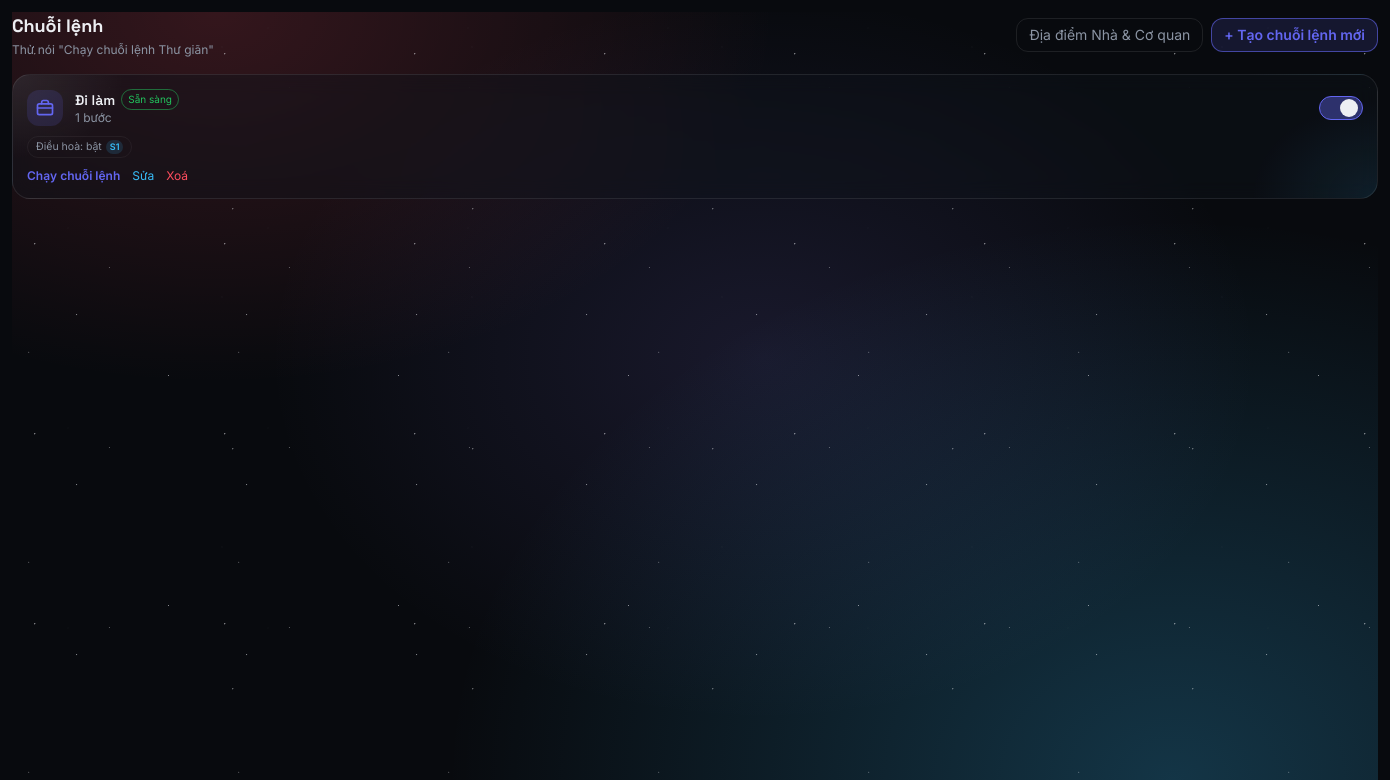
Test: RoutinesView — danh sách › Xoá — bấm Thôi thì huỷ xác nhận, không gọi deleteRoutine
Click the button "Xoá".
click(177, 176)  # box 166,168 -> 188,184
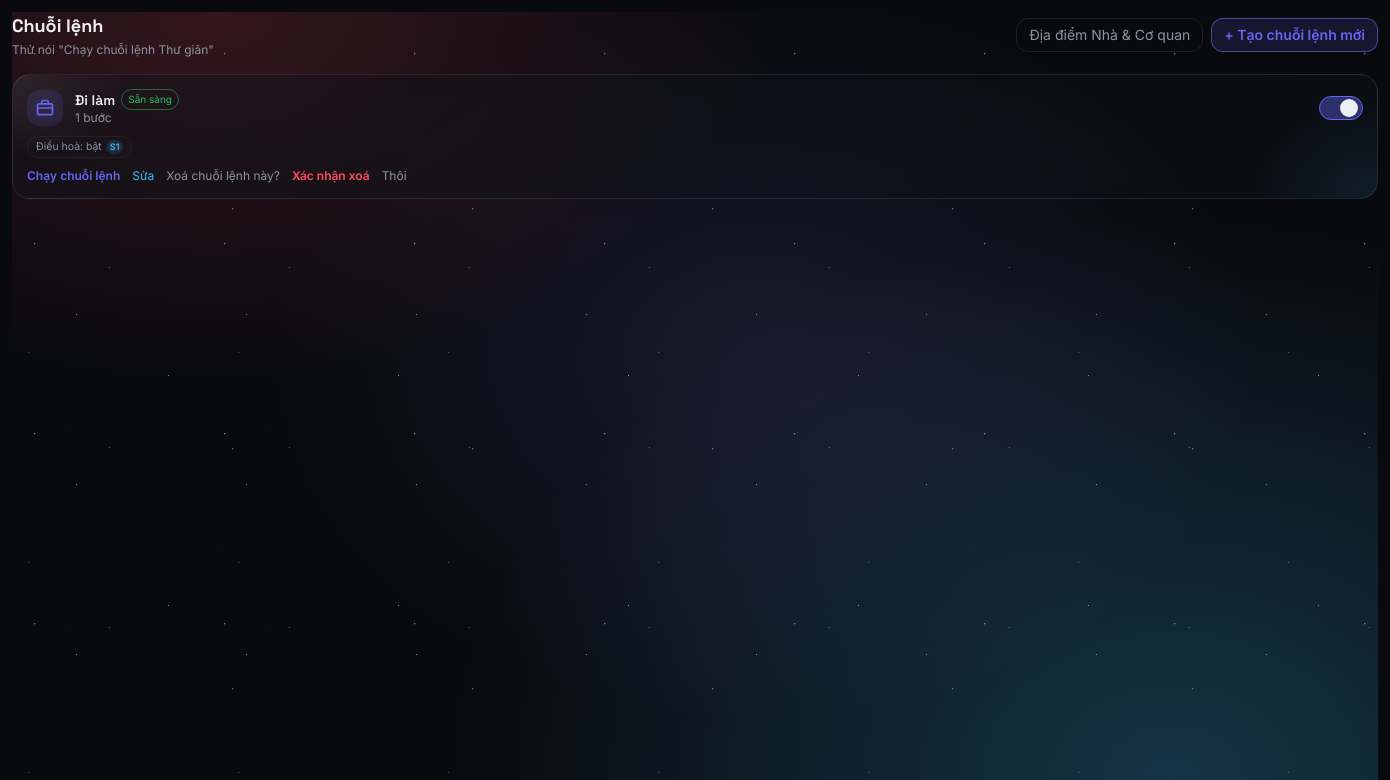
Click the button "Thôi".
click(394, 176)  # box 382,168 -> 407,184
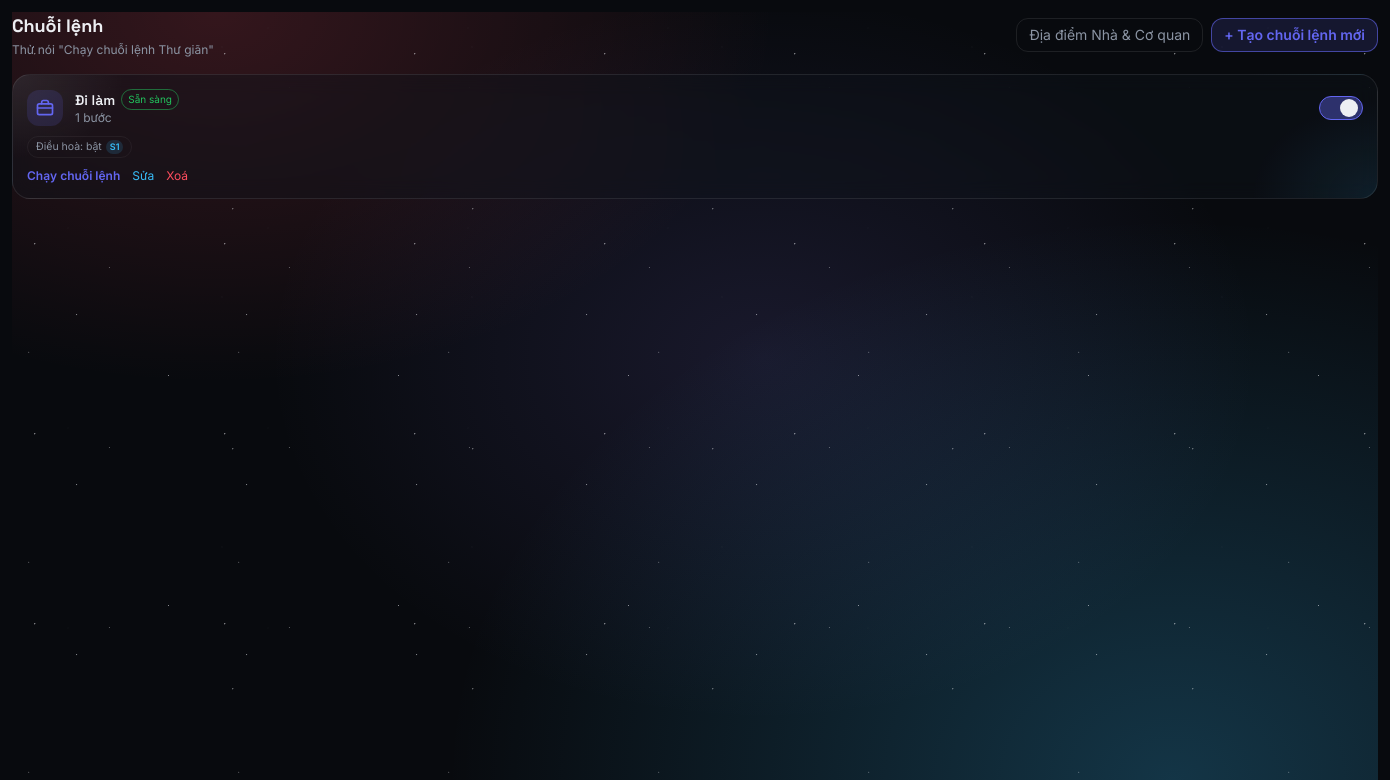
Result: the text "Xoá chuỗi lệnh này?" is gone
